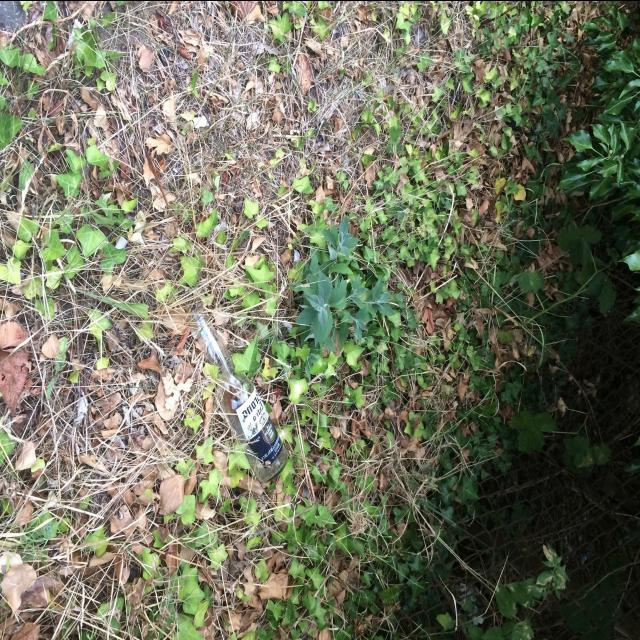Glass bottle: (189, 305, 288, 482)
Other plastic: (294, 248, 302, 264)
